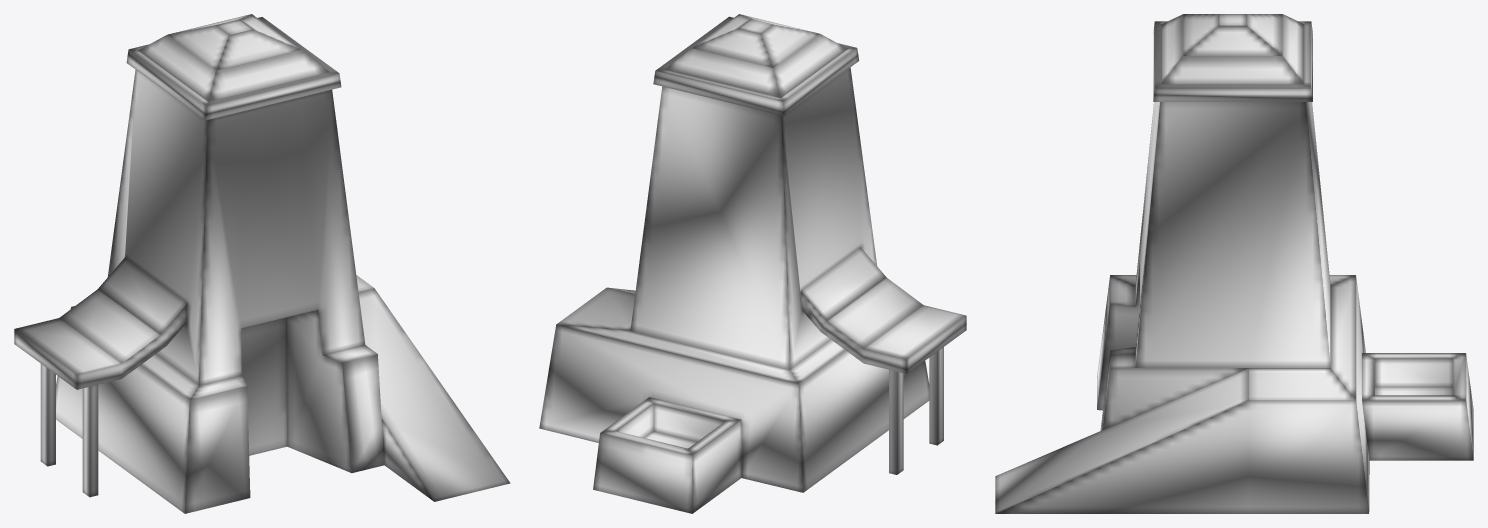
Rendered from Granary-01.fbx.
3 views of the same model, side by side, from view 1: azimuth 30°, elevation 25°; view 2: azimuth 150°, elevation 25°; view 3: azimuth 270°, elevation 25° (orthographic). The views are drawn at different scales.
Visible parts, largest first — view 1: Granary; view 2: Granary; view 3: Granary.
Part boxes in pixels (<box>): Granary: <box>14,14,510,513</box>; Granary: <box>539,14,966,513</box>; Granary: <box>995,14,1473,513</box>.
Bounding box in the file's own units: 1.59 × 1.78 × 1.86.
